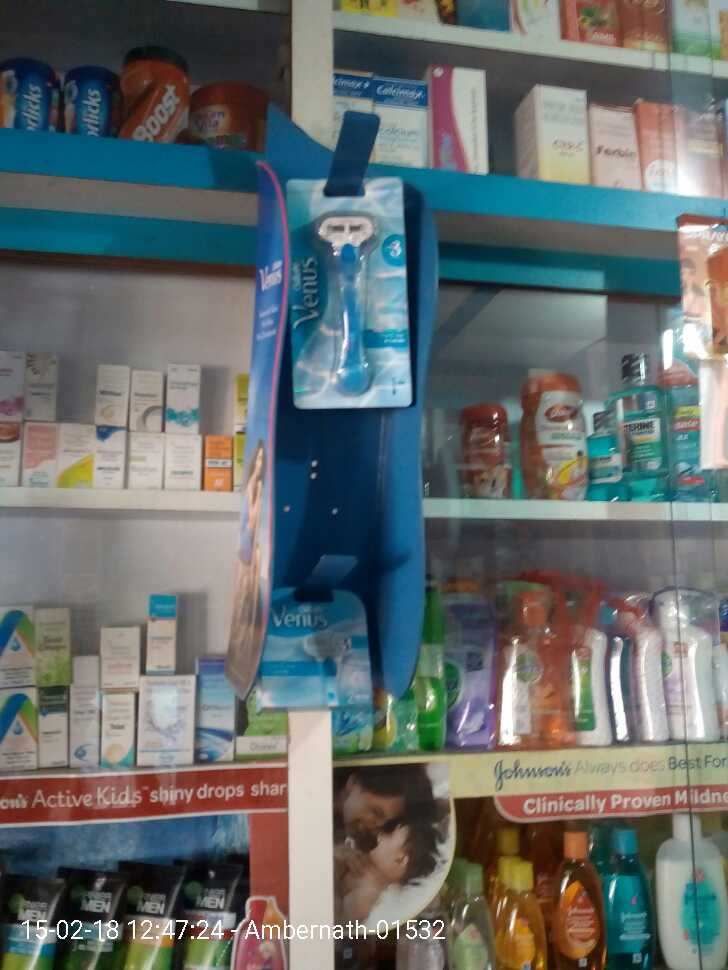beauty: (287, 180, 416, 403), (259, 587, 377, 716)
